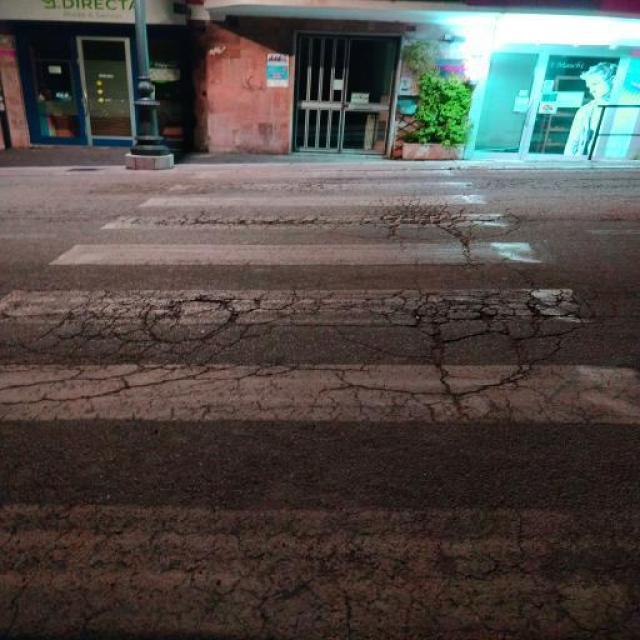crosswalk: (1, 160, 638, 640)
